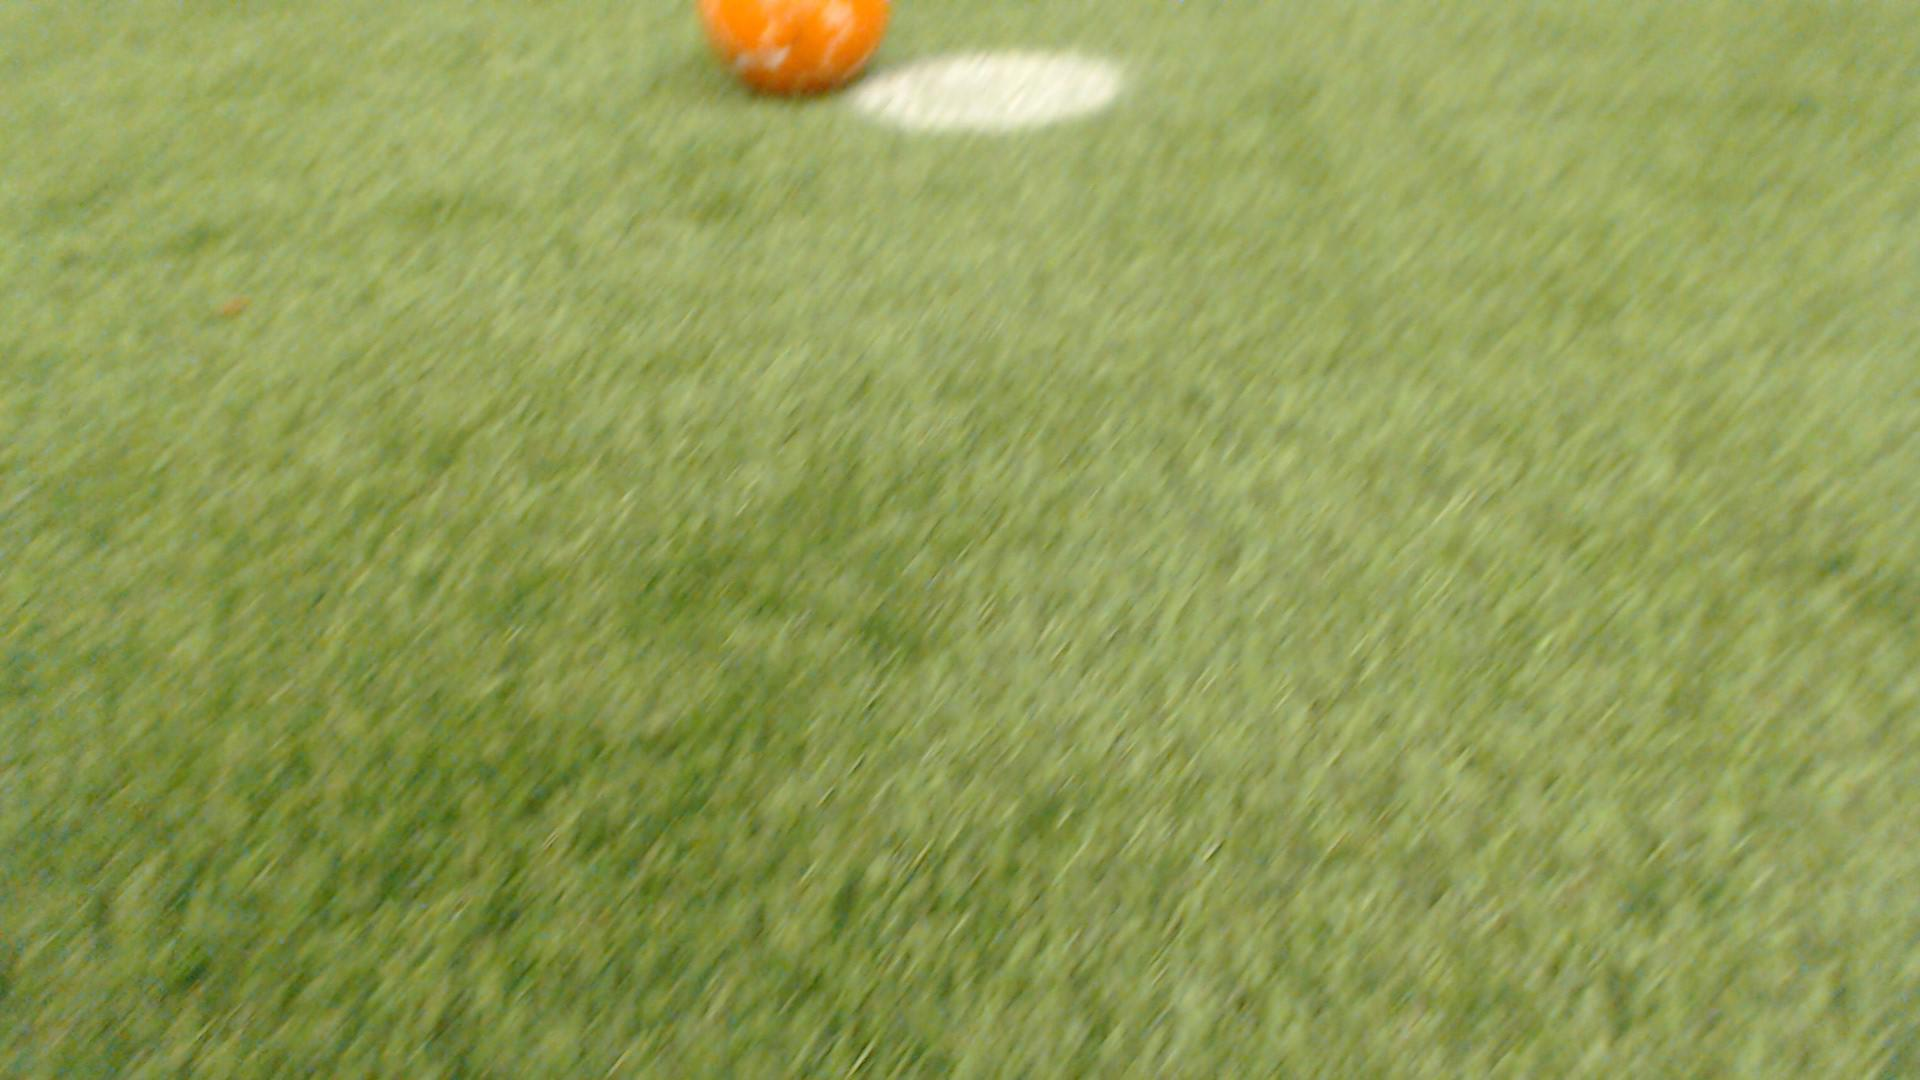bola: (682, 0, 920, 120)
